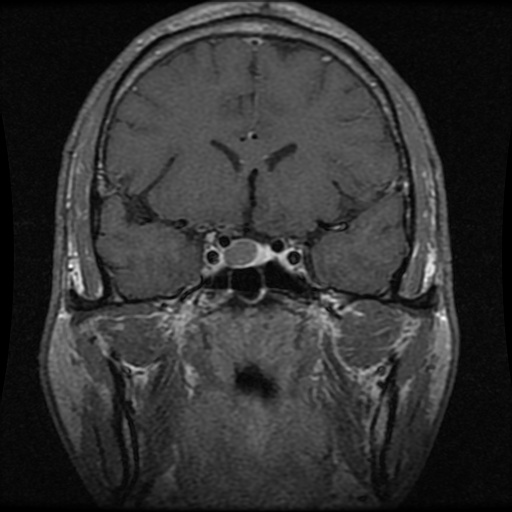pituitary: (224, 238, 272, 267)
